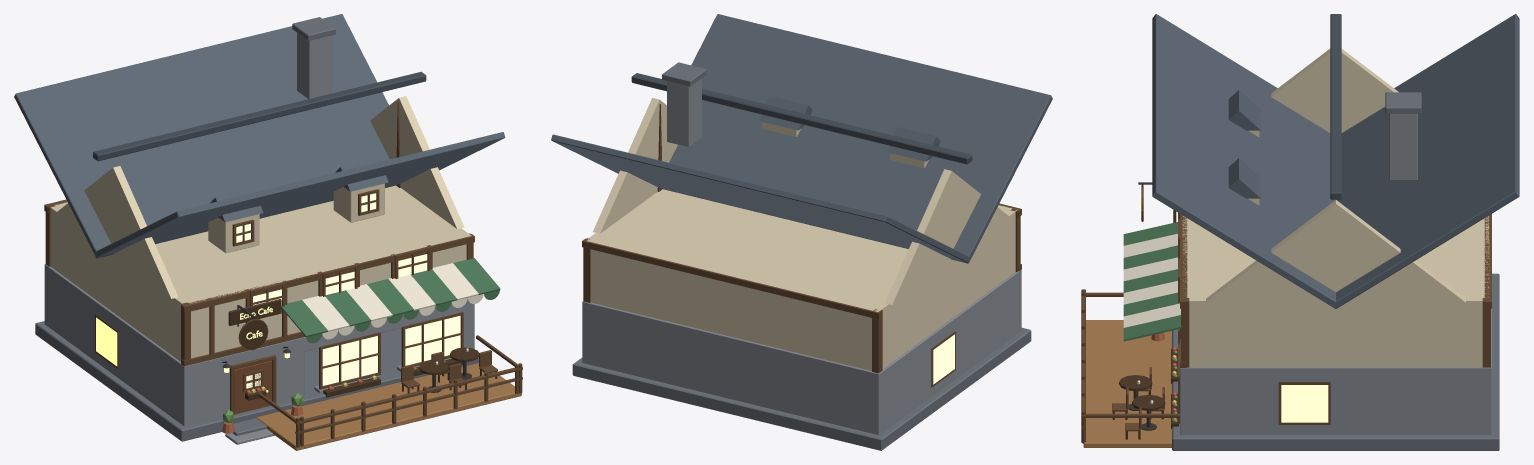
The model's file is echo_world_cafe_exterior_20260804.glb.
3 renders of one model, left to right at view 1: azimuth 30°, elevation 25°; view 2: azimuth 150°, elevation 25°; view 3: azimuth 270°, elevation 25°, orthographic. The views are drawn at different scales.
Visible parts, largest first — view 1: ROOF_SlopeBack, WALL_Upper_Core, ROOF_SlopeFront, TERRACE_Deck, WALL_Left_Stone, WALL_Skirt, GABLE_L, GABLE_R, ROOF_Ridge, WALL_Front_Stone_L, ROOF_Chimney, TIMBER_BeamTop_F (+27 smaller); view 2: ROOF_SlopeFront, WALL_Upper_Core, WALL_Back_Stone, ROOF_SlopeBack, WALL_Skirt, WALL_Left_Stone, GABLE_L, ROOF_Ridge, GABLE_R, TIMBER_BeamTop_B, ROOF_Chimney, DORMER_1_Roof (+4 smaller); view 3: ROOF_SlopeFront, ROOF_SlopeBack, WALL_Upper_Core, WALL_Right_Stone, GABLE_R, TERRACE_Deck, WALL_Skirt, GABLE_L, ROOF_Ridge, ROOF_Chimney, WINDOW_SideR_Glass, DORMER_1_Roof (+22 smaller).
Boxes of the visible parts, x1,y1,x2,y2 form: ROOF_SlopeBack: [14, 14, 397, 258]; WALL_Upper_Core: [50, 185, 471, 361]; ROOF_SlopeFront: [95, 132, 505, 257]; TERRACE_Deck: [256, 363, 521, 450]; WALL_Left_Stone: [49, 267, 180, 422]; WALL_Skirt: [35, 321, 478, 441]; GABLE_L: [55, 166, 178, 298]; GABLE_R: [370, 96, 464, 228]; ROOF_Ridge: [93, 71, 426, 161]; WALL_Front_Stone_L: [179, 355, 232, 426]; ROOF_Chimney: [297, 33, 331, 99]; TIMBER_BeamTop_F: [181, 234, 474, 312]; ROOF_SlopeFront: [660, 14, 1052, 263]; WALL_Upper_Core: [586, 189, 1017, 370]; WALL_Back_Stone: [582, 301, 884, 435]; ROOF_SlopeBack: [551, 134, 970, 262]; WALL_Skirt: [572, 327, 1031, 450]; WALL_Left_Stone: [883, 273, 1016, 430]; GABLE_L: [885, 169, 1010, 304]; ROOF_Ridge: [631, 73, 972, 164]; GABLE_R: [593, 98, 677, 233]; TIMBER_BeamTop_B: [582, 238, 882, 319]; ROOF_Chimney: [667, 78, 701, 147]; DORMER_1_Roof: [887, 127, 940, 161]; ROOF_SlopeFront: [1152, 14, 1338, 308]; ROOF_SlopeBack: [1332, 14, 1519, 308]; WALL_Upper_Core: [1182, 215, 1489, 366]; WALL_Right_Stone: [1191, 367, 1480, 434]; GABLE_R: [1206, 200, 1465, 302]; TERRACE_Deck: [1083, 320, 1171, 447]; WALL_Skirt: [1172, 273, 1499, 450]; GABLE_L: [1271, 49, 1398, 132]; ROOF_Ridge: [1330, 14, 1341, 199]; ROOF_Chimney: [1389, 113, 1417, 180]; WINDOW_SideR_Glass: [1281, 385, 1328, 422]; DORMER_1_Roof: [1228, 90, 1260, 130].
Bounding box in the file's own units: 8.15 × 6.69 × 8.43.
